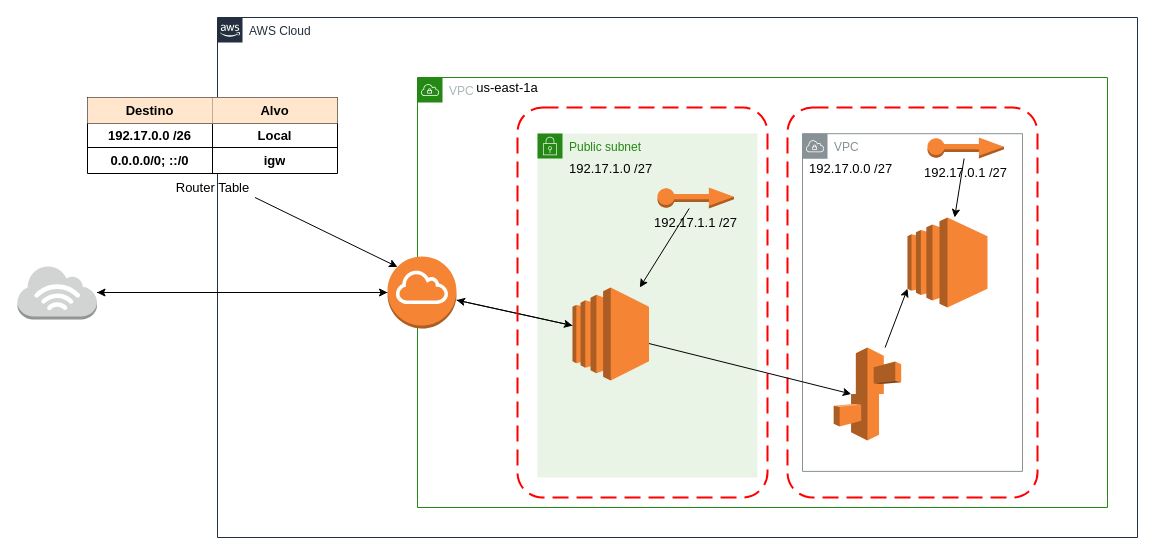
Image size: 1155x555. Some labels were removed from this diagram. Here are the shapes that lost their labels. From the top down, the centre of each, then its label:
At (x=947, y=262): "EC2 - MySQL".
At (x=610, y=333): "EC2 - FRONTEND".
At (x=867, y=393): "EBS - BACKEND".
